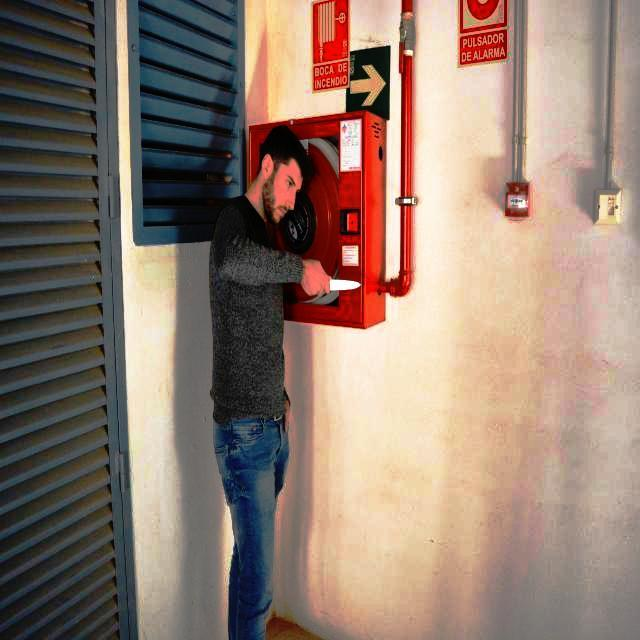Knife: (317, 265, 370, 303)
